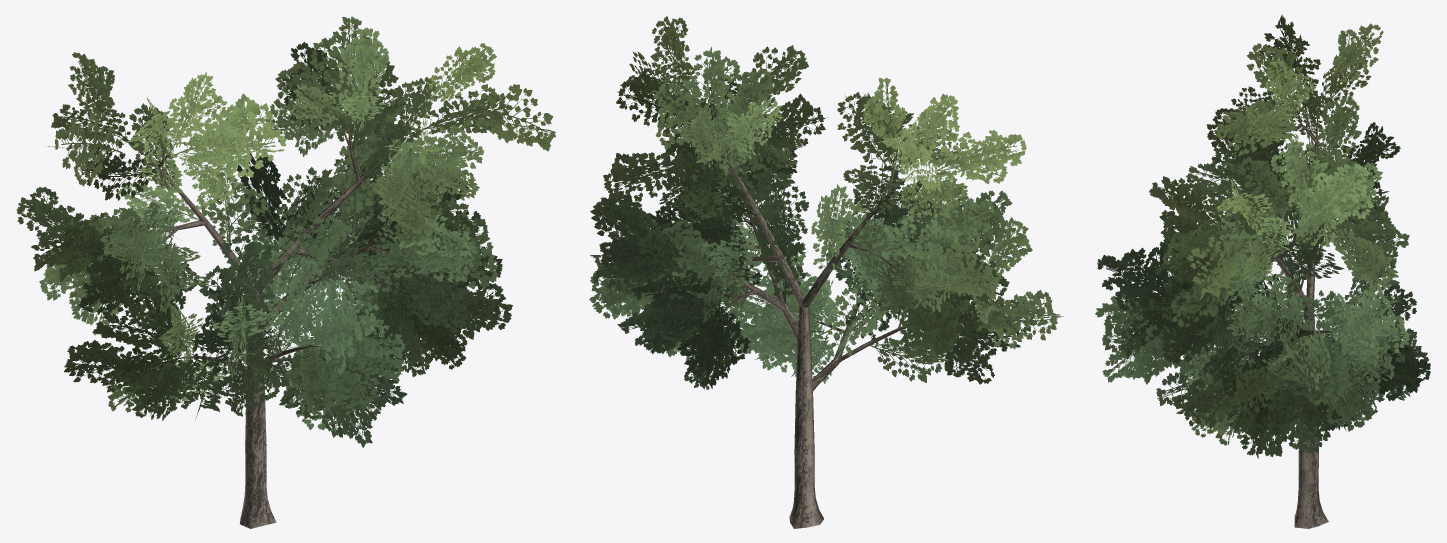
Rendered from tree_large.glb.
3 renders of one model, left to right at view 1: azimuth 30°, elevation 25°; view 2: azimuth 150°, elevation 25°; view 3: azimuth 270°, elevation 25°, orthographic. The views are drawn at different scales.
Parts seen in each view (by area): view 1: Object_139, Object_138; view 2: Object_139, Object_138; view 3: Object_139, Object_138.
Part boxes in pixels (x1,y1,x2,y2): Object_139: [16, 16, 555, 447]; Object_138: [136, 125, 420, 528]; Object_139: [589, 16, 1063, 389]; Object_138: [685, 132, 916, 528]; Object_139: [1095, 14, 1430, 458]; Object_138: [1239, 109, 1332, 528].
Size of the model in its own units: 5.88 by 5.63 by 3.96.
2 materials, 2 textured.
